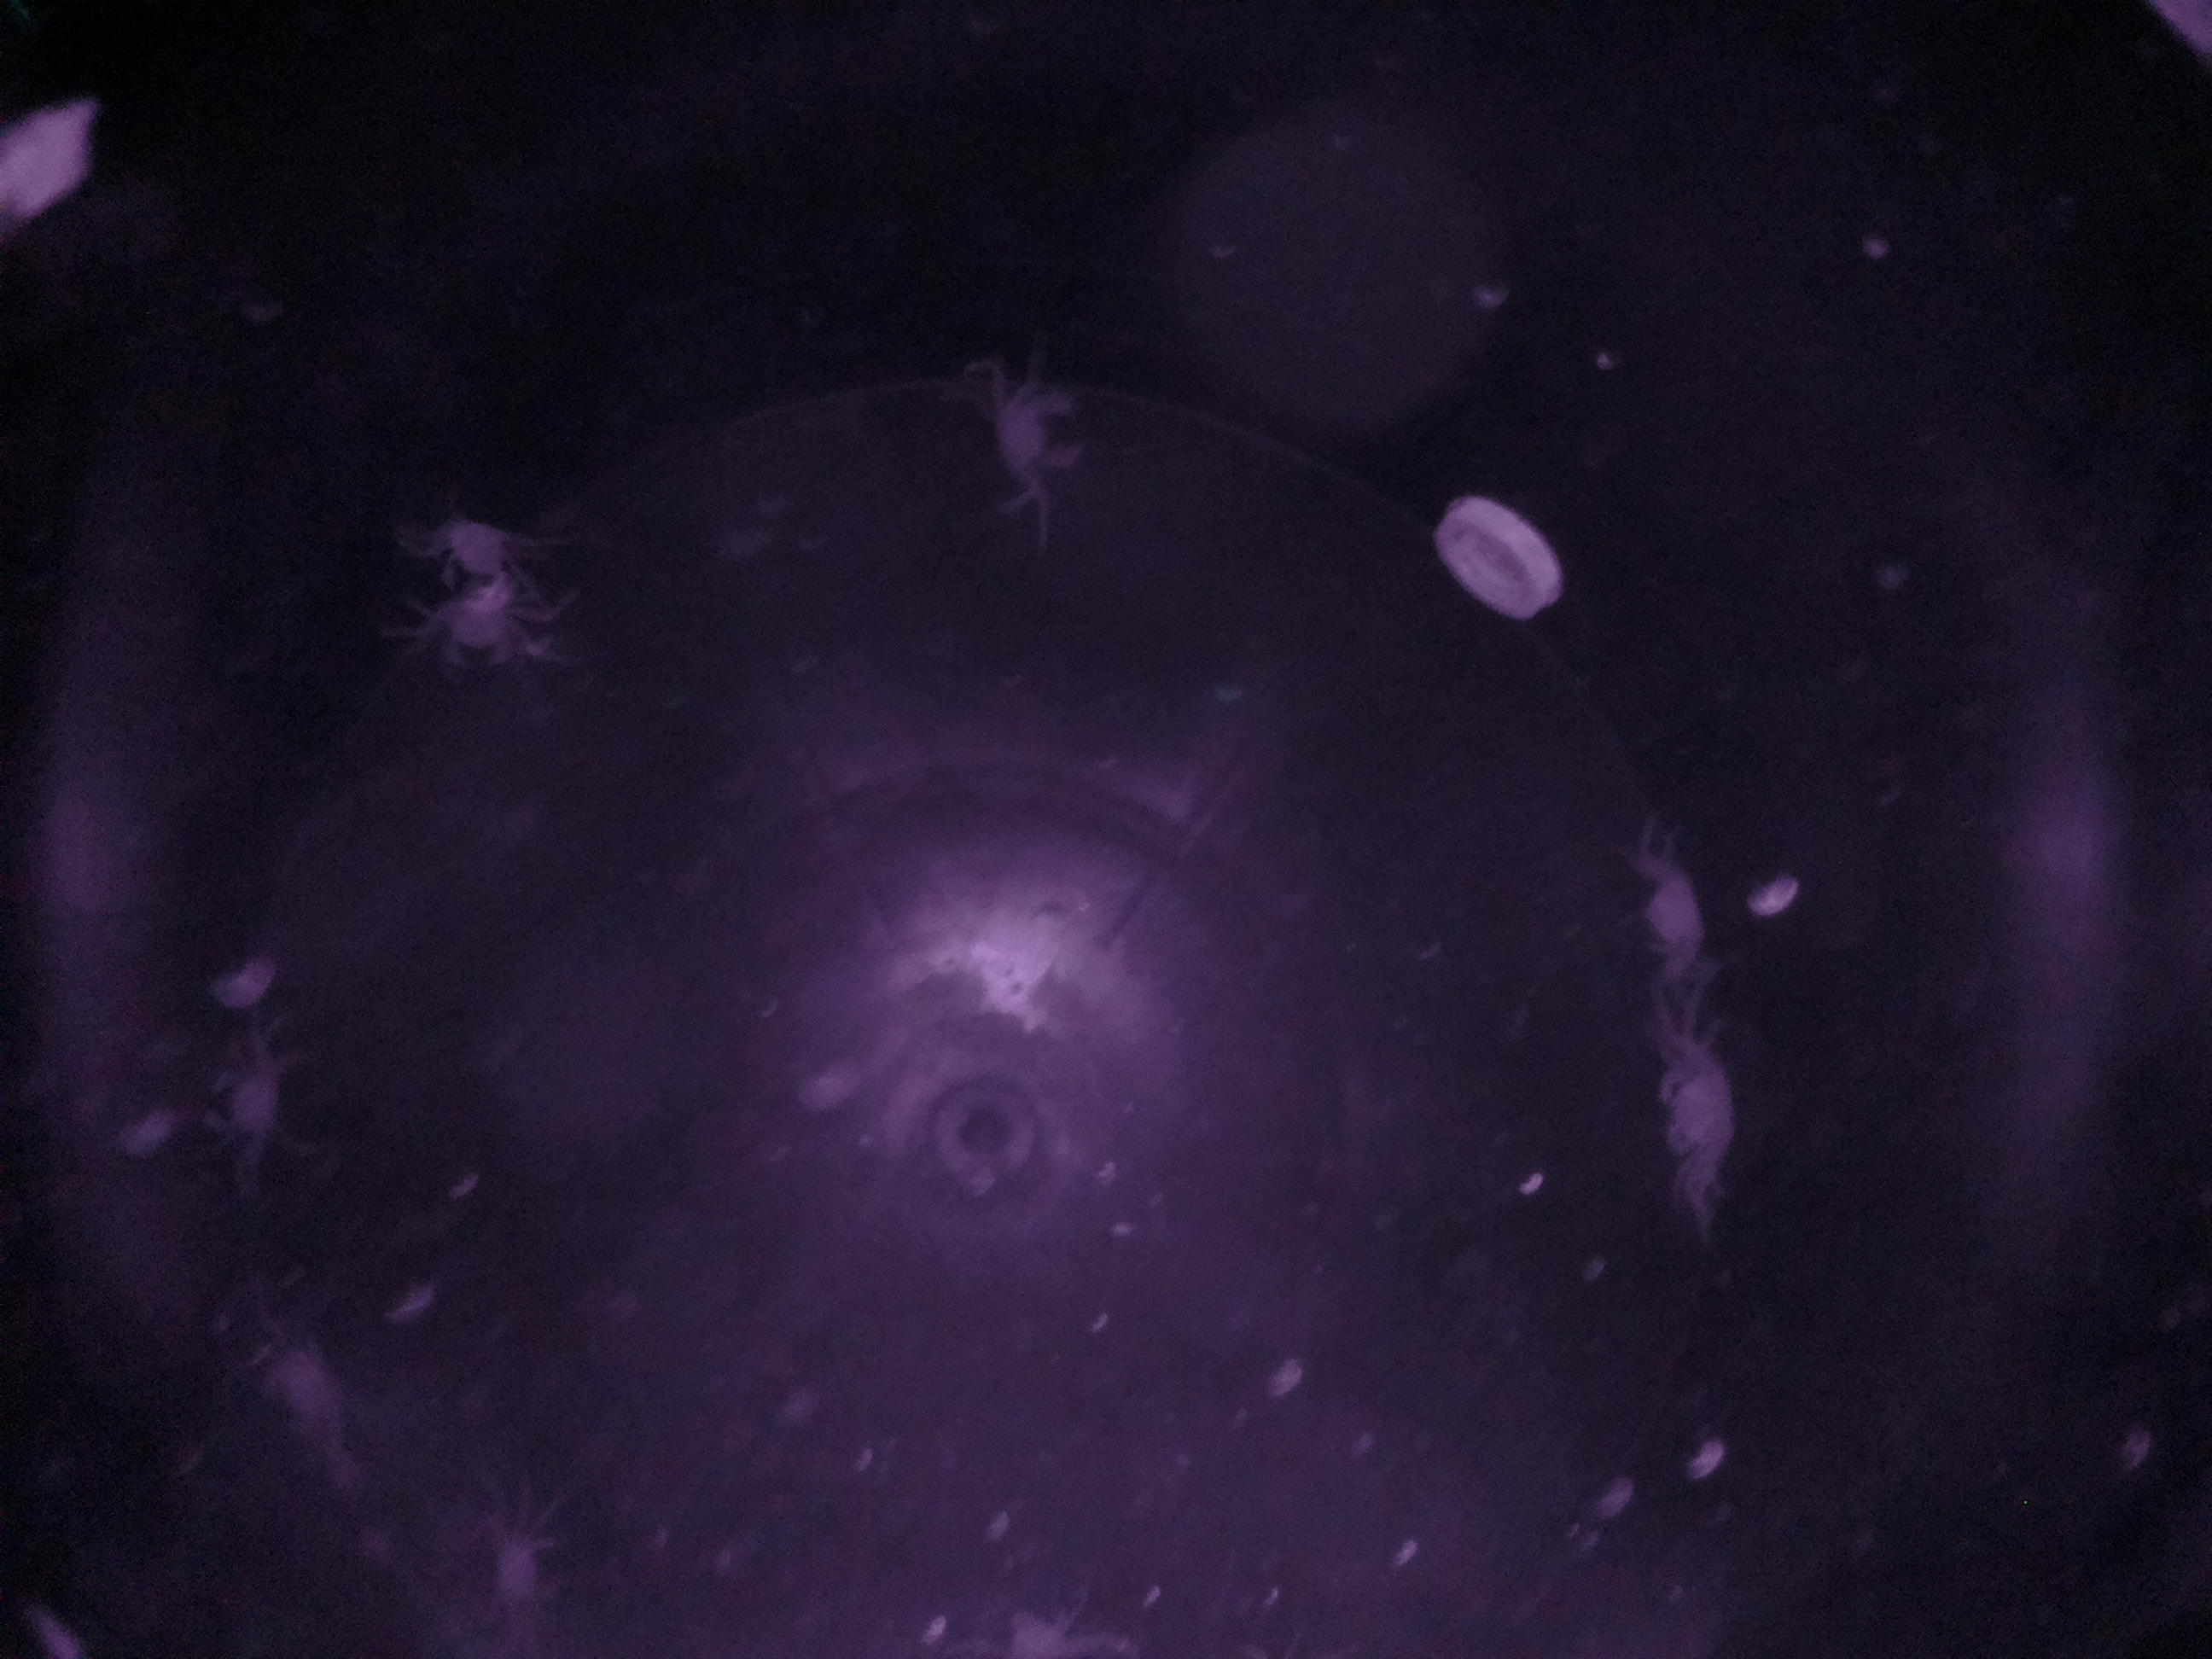Crab: (970, 371, 1106, 507), (1648, 1039, 1759, 1190)
